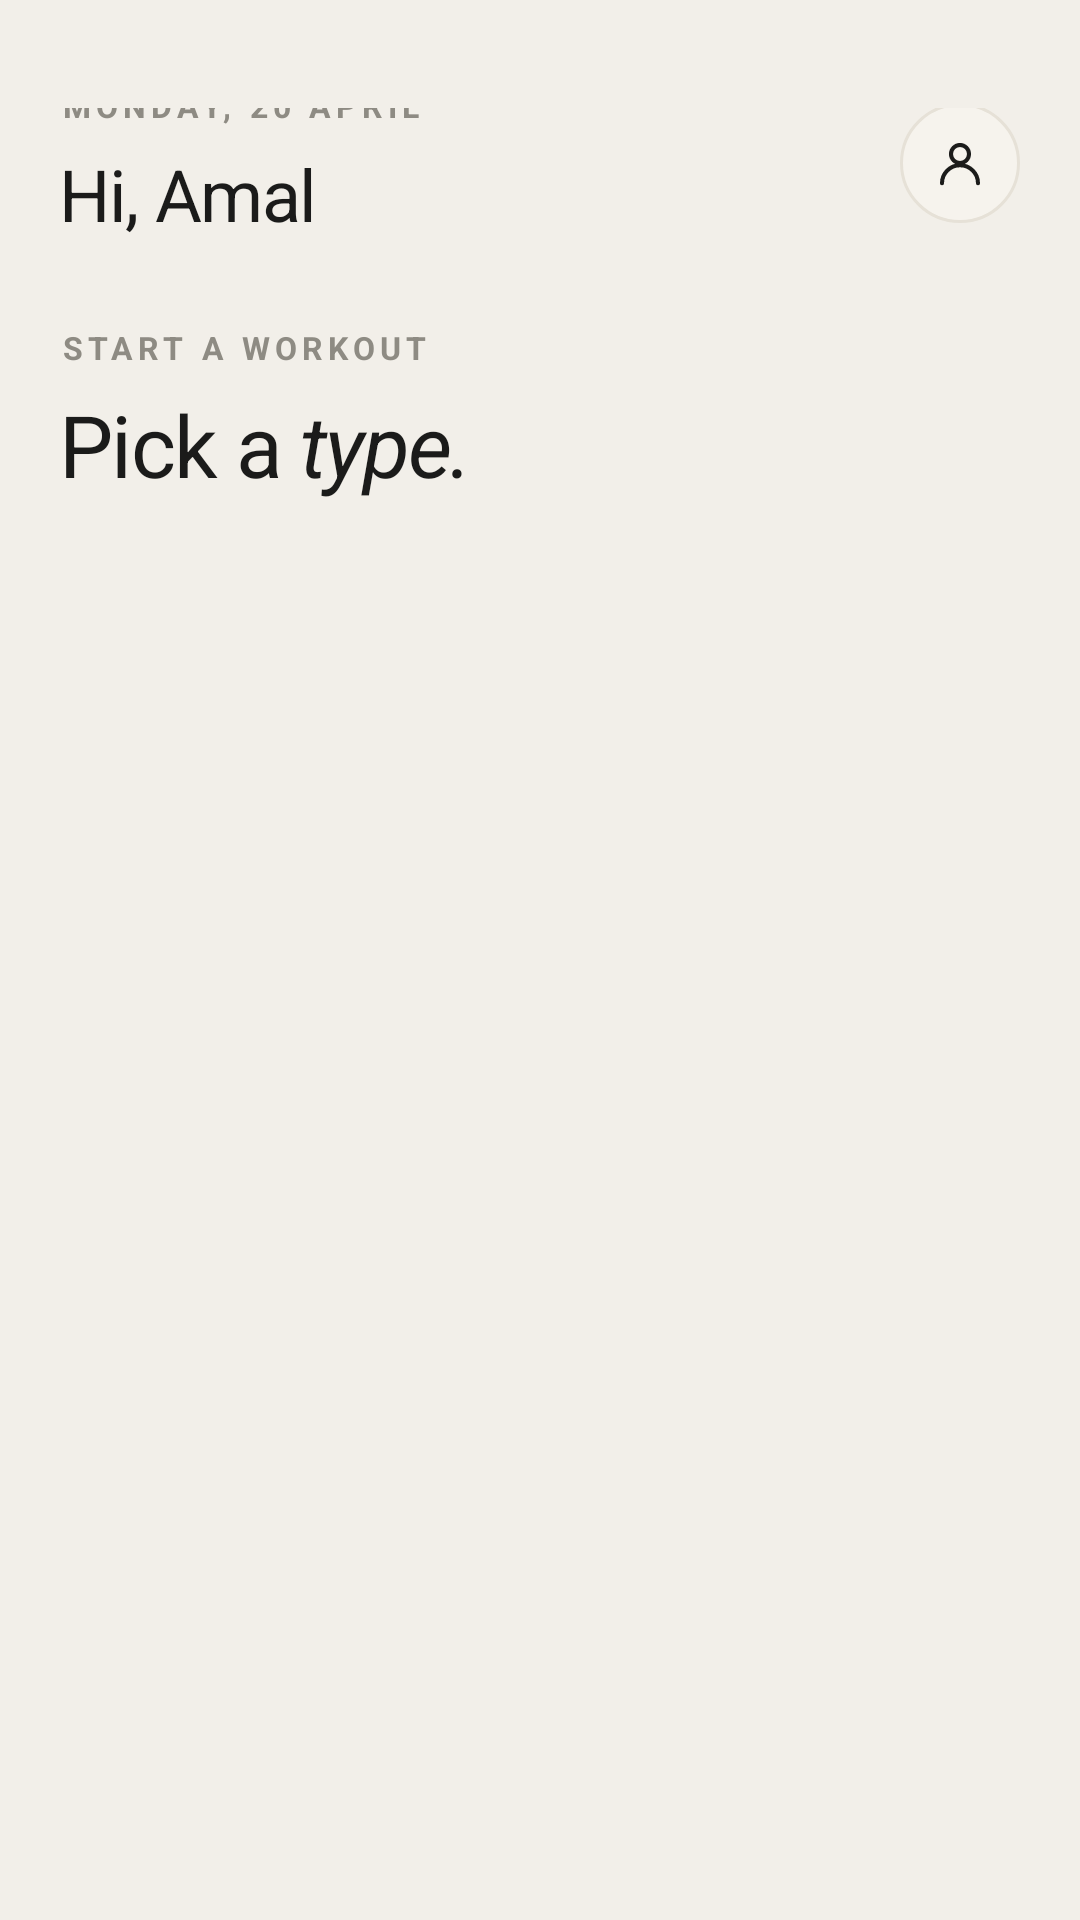

Point at icon controls on the screen. Image size 1080 x 1920, points as (x,y).
Profile: (960,164)
